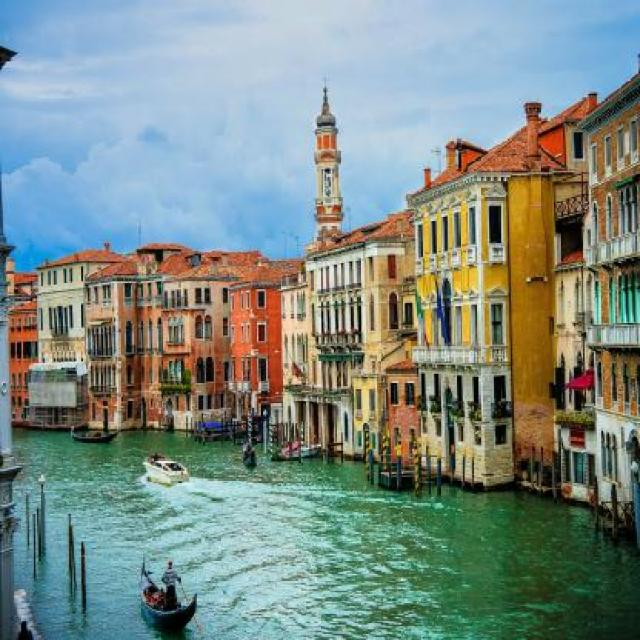ship: (136, 561, 198, 628), (143, 455, 189, 483), (270, 440, 322, 458), (70, 428, 119, 444), (242, 436, 256, 466)
